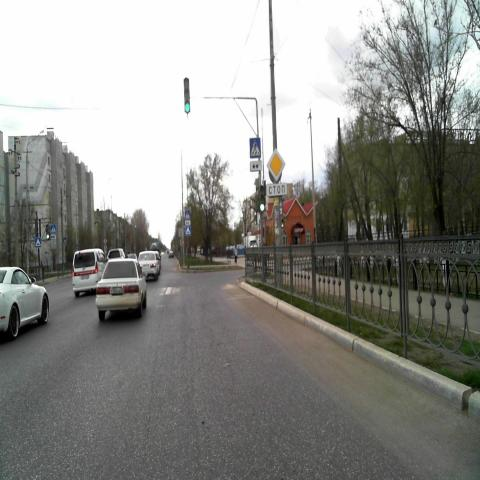8_15: (250, 161, 262, 171)
